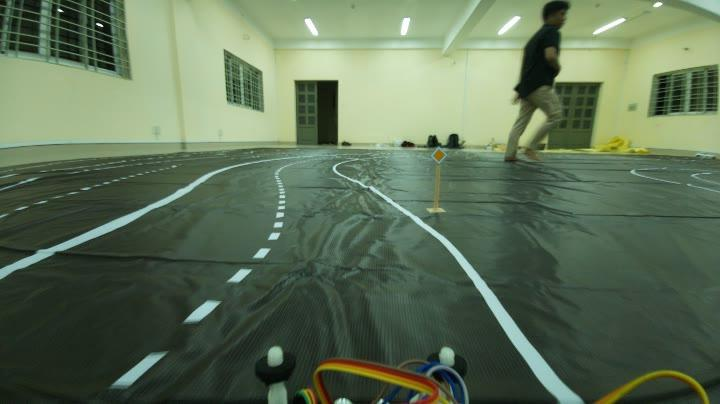priority: (428, 144, 447, 165)
